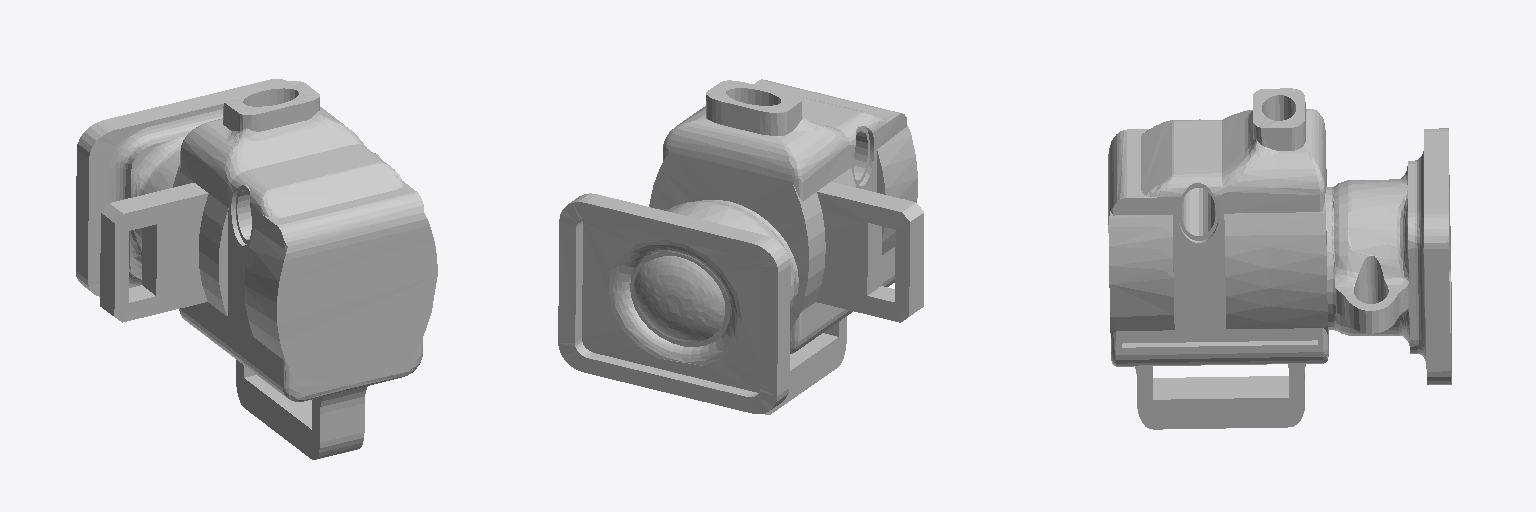
File: Camera.obj
3 renders of one model, left to right at view 1: azimuth 30°, elevation 25°; view 2: azimuth 150°, elevation 25°; view 3: azimuth 270°, elevation 25°, orthographic.
Parts seen in each view (by area): view 1: obj_0; view 2: obj_0; view 3: obj_0.
Part boxes in pixels (x1,y1,x2,y2): obj_0: (76,79,437,459); obj_0: (558,79,923,414); obj_0: (1108,88,1451,429).
Bounding box in the file's own units: 1 × 1 × 1.